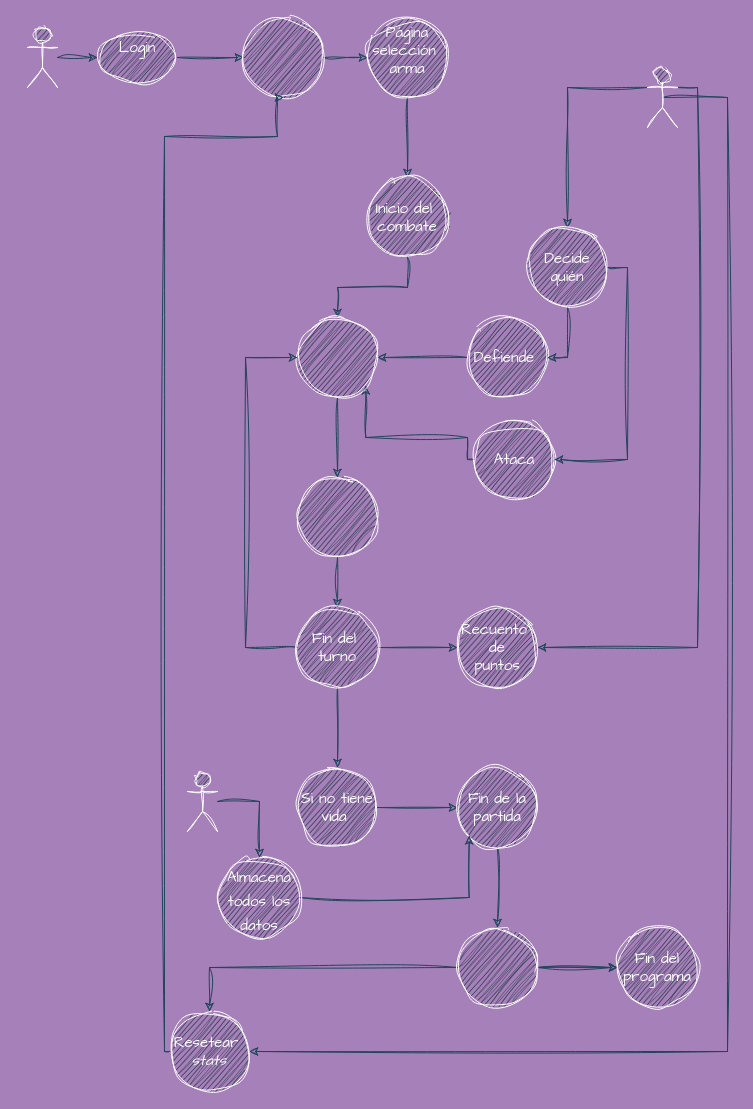
This 753x1109 diagram has some shape labels left out. Here are the shapes that lost their labels. From the top down, the centre of each, then its label:
At (x=42, y=57): "Usuario".
At (x=283, y=57): "Página selección personaje".
At (x=662, y=97): "Programa".
At (x=337, y=357): "Inicio del turno".
At (x=337, y=517): "Ataque Defensa".
At (x=202, y=801): "BD".
At (x=497, y=967): "Volver a jugar".
